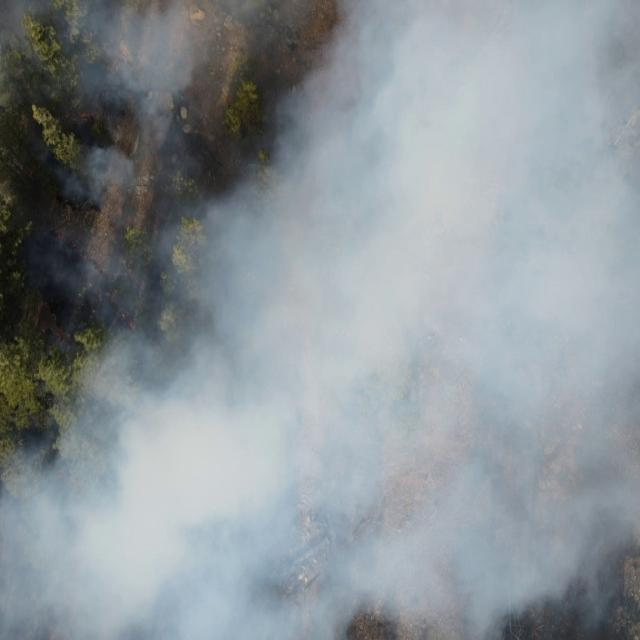fire: (120, 308, 136, 332), (76, 107, 97, 119)
smoke: (277, 0, 640, 640), (31, 146, 277, 428), (1, 430, 277, 640), (0, 0, 275, 111), (103, 113, 274, 145)
